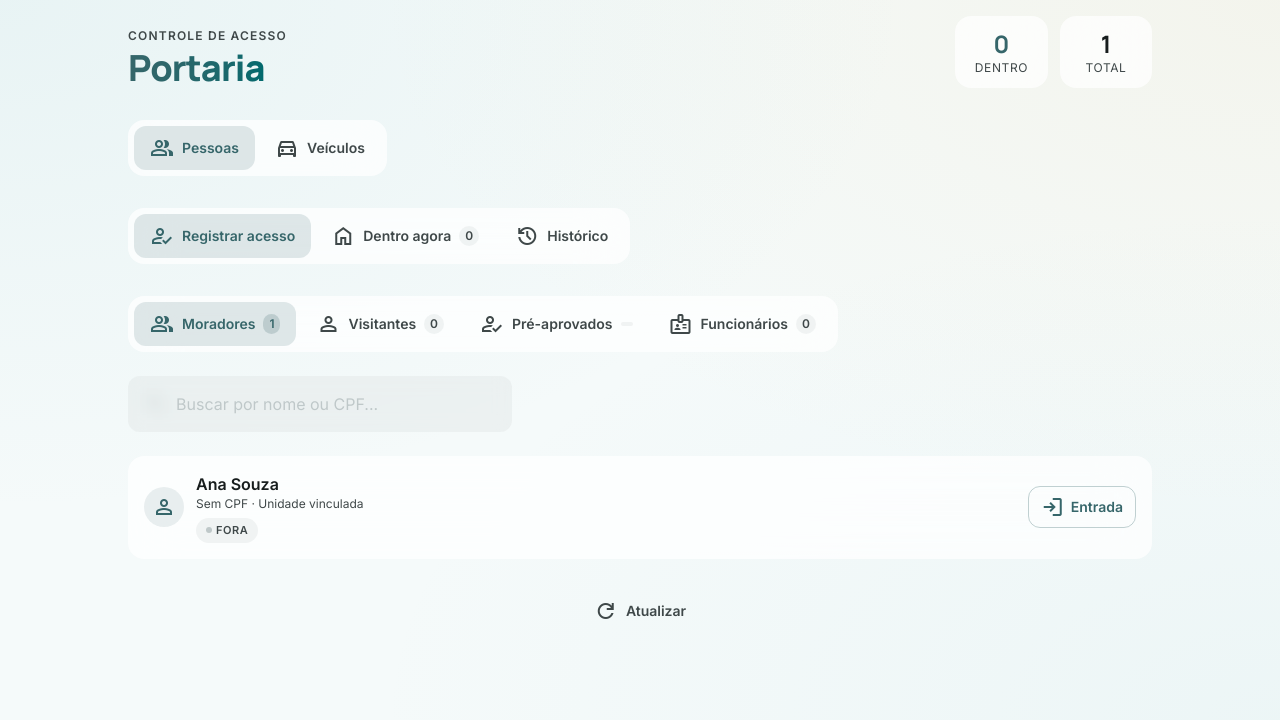
it: Portaria — navegação entre abas › alternar para Veículos troca a seção e consulta a frota
Expected: the button "Moradores 1" is shown, 134,302 -> 296,346
Click the button "Veículos".
click(320, 148)  # box 259,126 -> 381,170
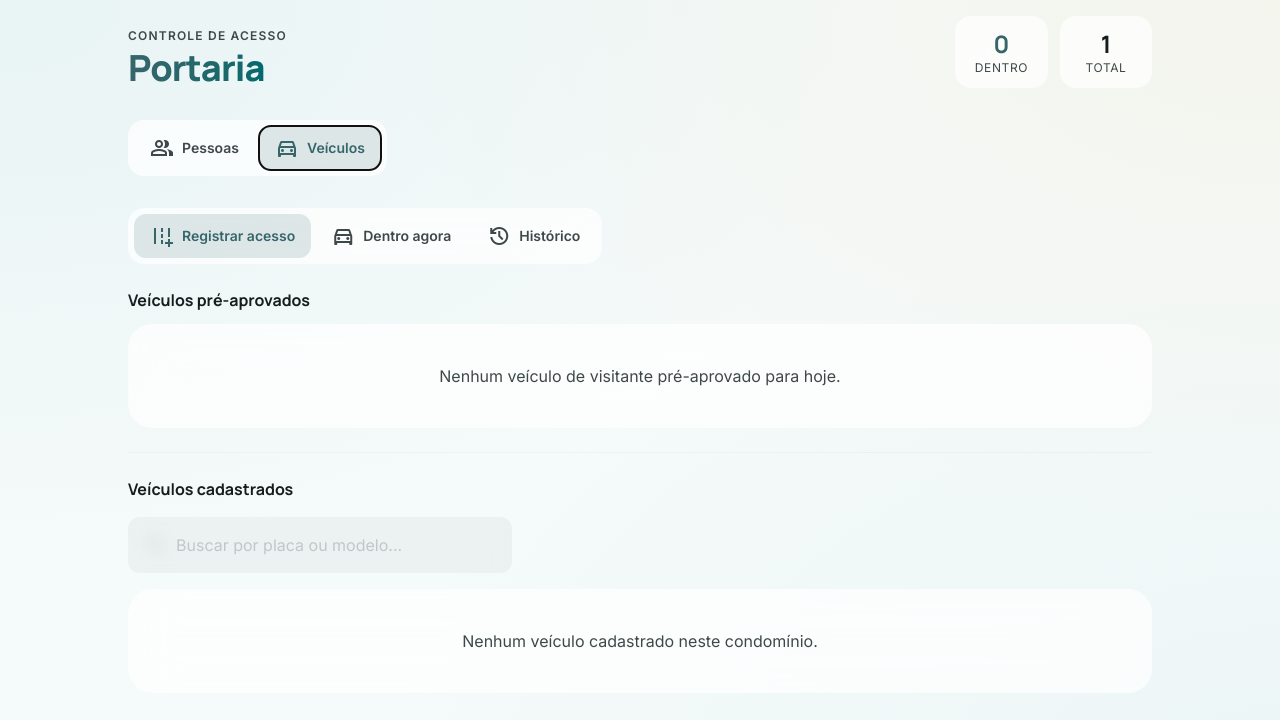
Now the button "Moradores" is gone
